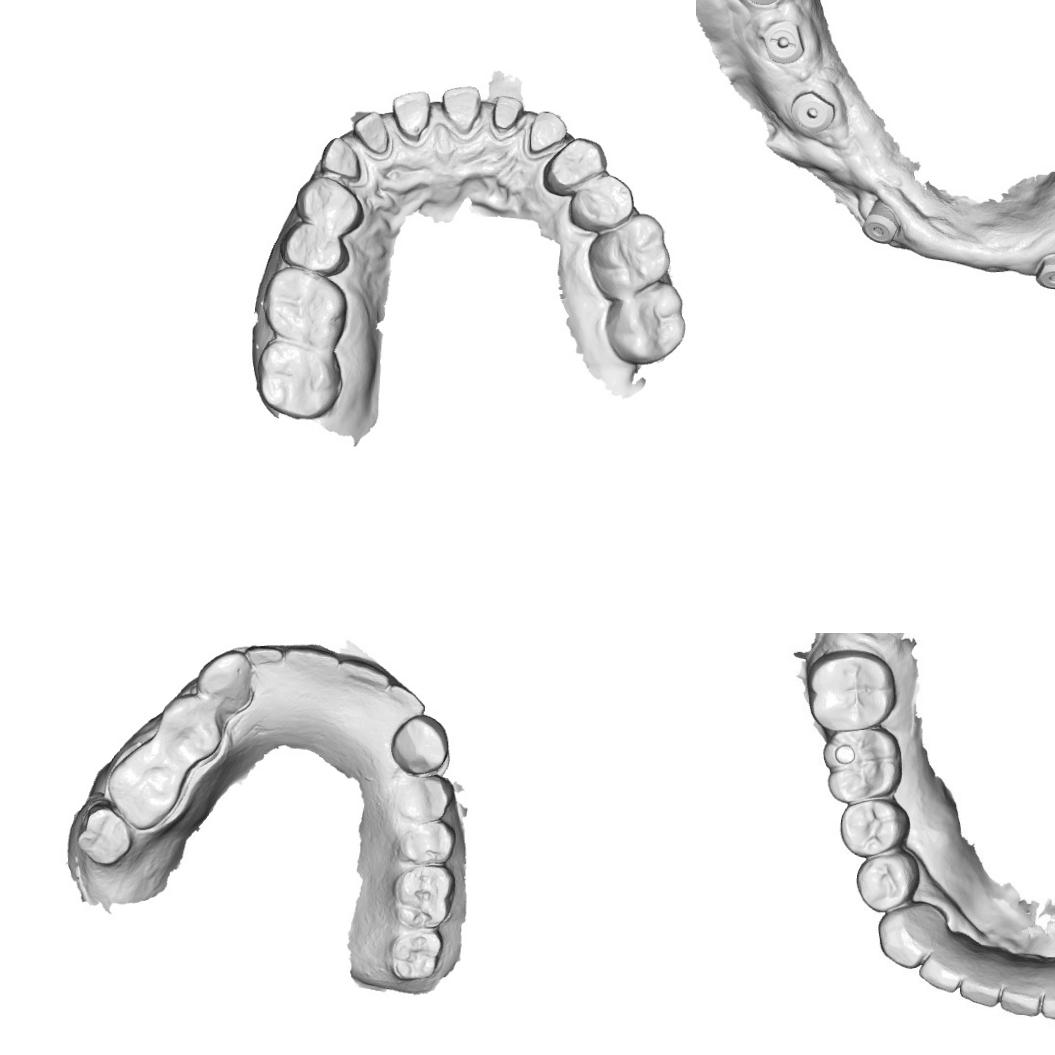canine: (880, 904, 943, 967), (388, 712, 450, 776), (198, 644, 253, 713)
crown: (438, 84, 486, 140), (318, 135, 368, 185), (390, 89, 434, 145), (522, 109, 569, 161), (350, 109, 396, 162), (487, 92, 528, 142)
implant: (782, 84, 838, 140), (857, 203, 902, 247), (1033, 250, 1055, 290)
implant_minus: (754, 14, 808, 69)
incisor: (283, 633, 338, 700), (338, 644, 388, 708), (956, 959, 1004, 1010), (996, 972, 1046, 1019), (383, 674, 424, 728), (916, 950, 966, 994), (239, 635, 280, 686), (1037, 978, 1055, 1023)
molar: (586, 210, 673, 304), (253, 339, 346, 422), (603, 280, 687, 367), (260, 265, 349, 344), (106, 743, 184, 832), (810, 650, 894, 729), (825, 728, 905, 805), (388, 864, 458, 930), (74, 804, 132, 868), (388, 928, 444, 982)
premolar: (156, 692, 224, 764), (293, 174, 365, 236), (541, 134, 609, 198), (277, 220, 352, 277), (566, 174, 635, 233), (392, 770, 456, 828), (842, 797, 906, 855), (396, 817, 458, 868), (858, 854, 917, 906)
